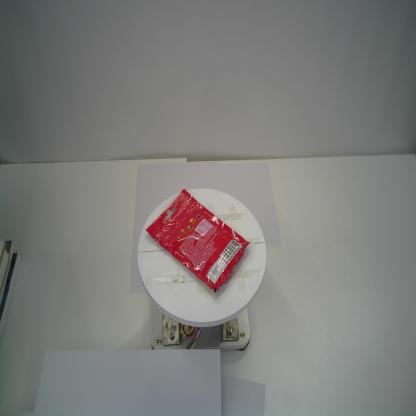Candy: (146, 188, 253, 293)
